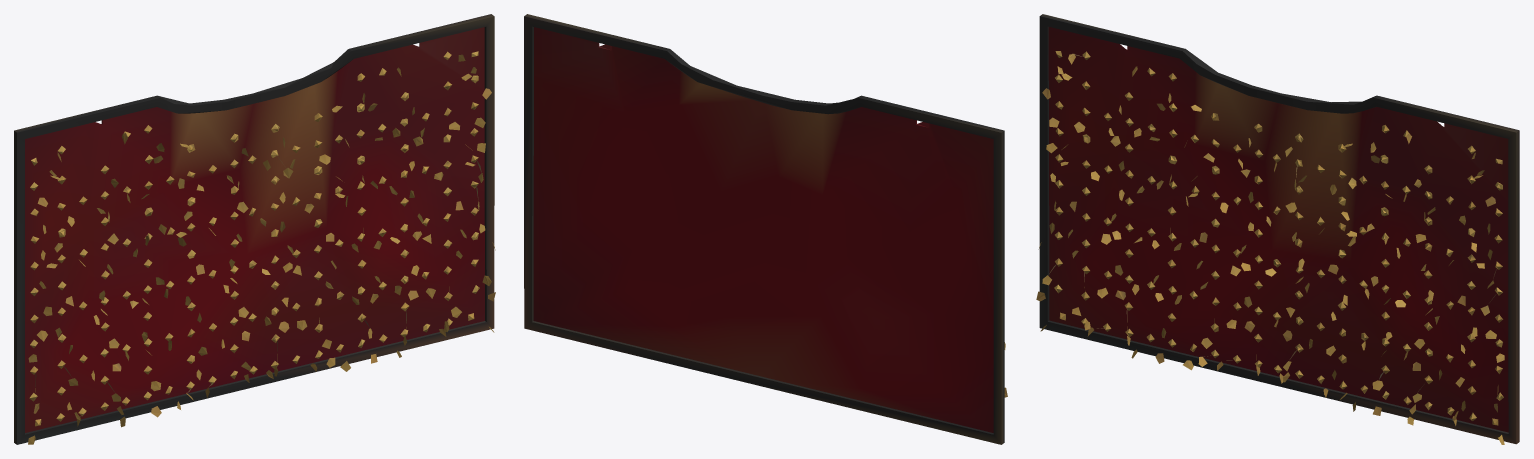
File: bamboo_fabric_mudguard_with_jewel_beetle_b7757b34.glb
The picture shows the model from 3 angles, left to right: view 1: azimuth 30°, elevation 25°; view 2: azimuth 150°, elevation 25°; view 3: azimuth 330°, elevation 25°; orthographic projection.
Visible parts, largest first — view 1: SM_ShillaDecoAsset_02_lowpoly_SM_ShillaDecoAsset_02_0; view 2: SM_ShillaDecoAsset_02_lowpoly_SM_ShillaDecoAsset_02_0; view 3: SM_ShillaDecoAsset_02_lowpoly_SM_ShillaDecoAsset_02_0.
Boxes of the visible parts, x1,y1,x2,y2 form: SM_ShillaDecoAsset_02_lowpoly_SM_ShillaDecoAsset_02_0: [14, 14, 495, 444]; SM_ShillaDecoAsset_02_lowpoly_SM_ShillaDecoAsset_02_0: [524, 14, 1007, 444]; SM_ShillaDecoAsset_02_lowpoly_SM_ShillaDecoAsset_02_0: [1036, 14, 1519, 444].
Bounding box in the file's own units: 0.8001 × 0.5041 × 0.0436.
